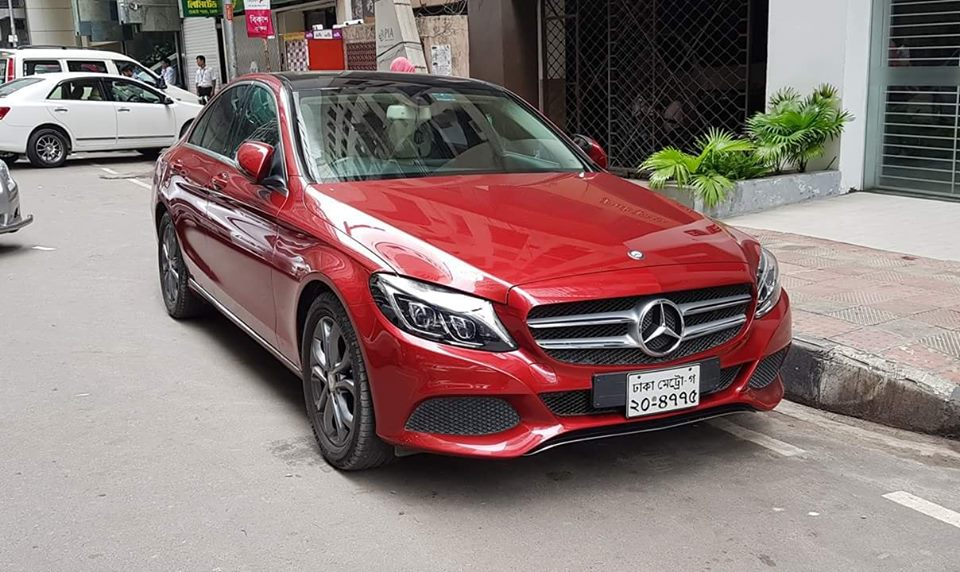registration_plate: (625, 362, 701, 419)
